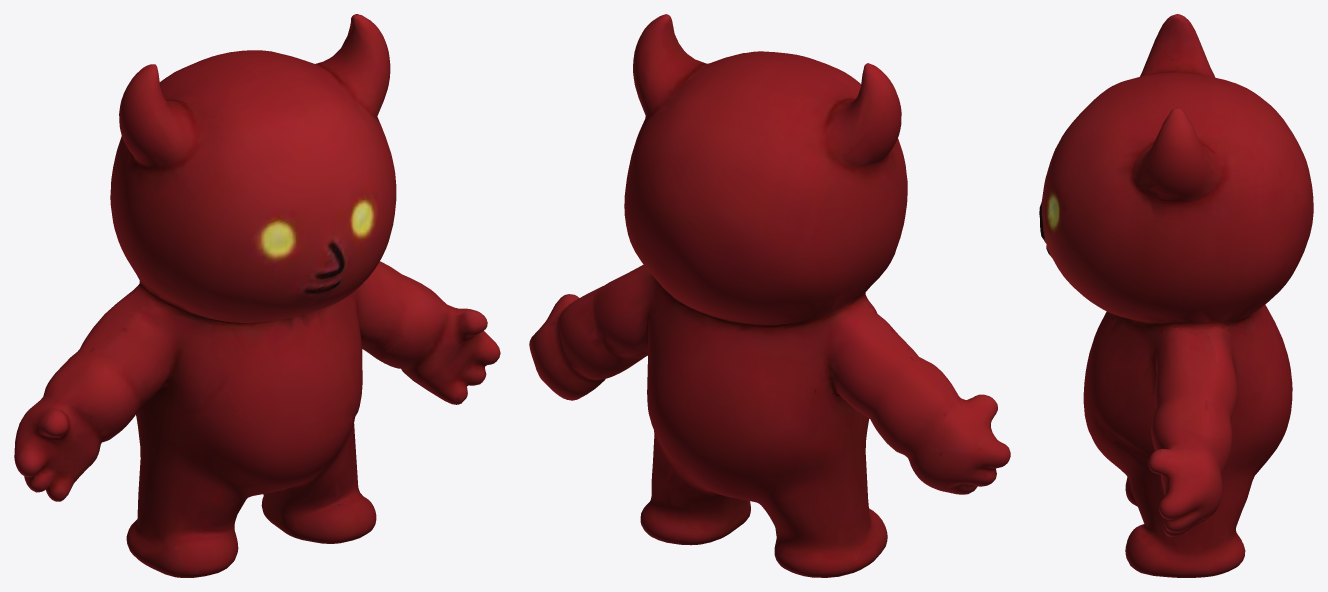
The model's file is 12_devil_trident.glb.
3 renders of one model, left to right at view 1: azimuth 30°, elevation 25°; view 2: azimuth 150°, elevation 25°; view 3: azimuth 270°, elevation 25°, orthographic. The views are drawn at different scales.
Parts seen in each view (by area): view 1: Mesh_0; view 2: Mesh_0; view 3: Mesh_0.
Boxes of the visible parts, box(x1,y1,x2,y2) form: Mesh_0: box(14, 14, 500, 577); Mesh_0: box(529, 14, 1010, 577); Mesh_0: box(1039, 14, 1313, 577).
Size of the model in its own units: 1.9 by 1.9 by 1.01.
1 material, 1 textured.
